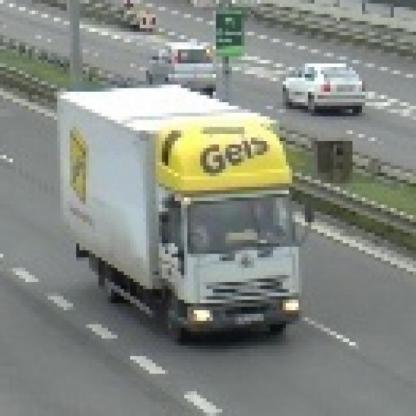truck: (58, 82, 318, 339)
